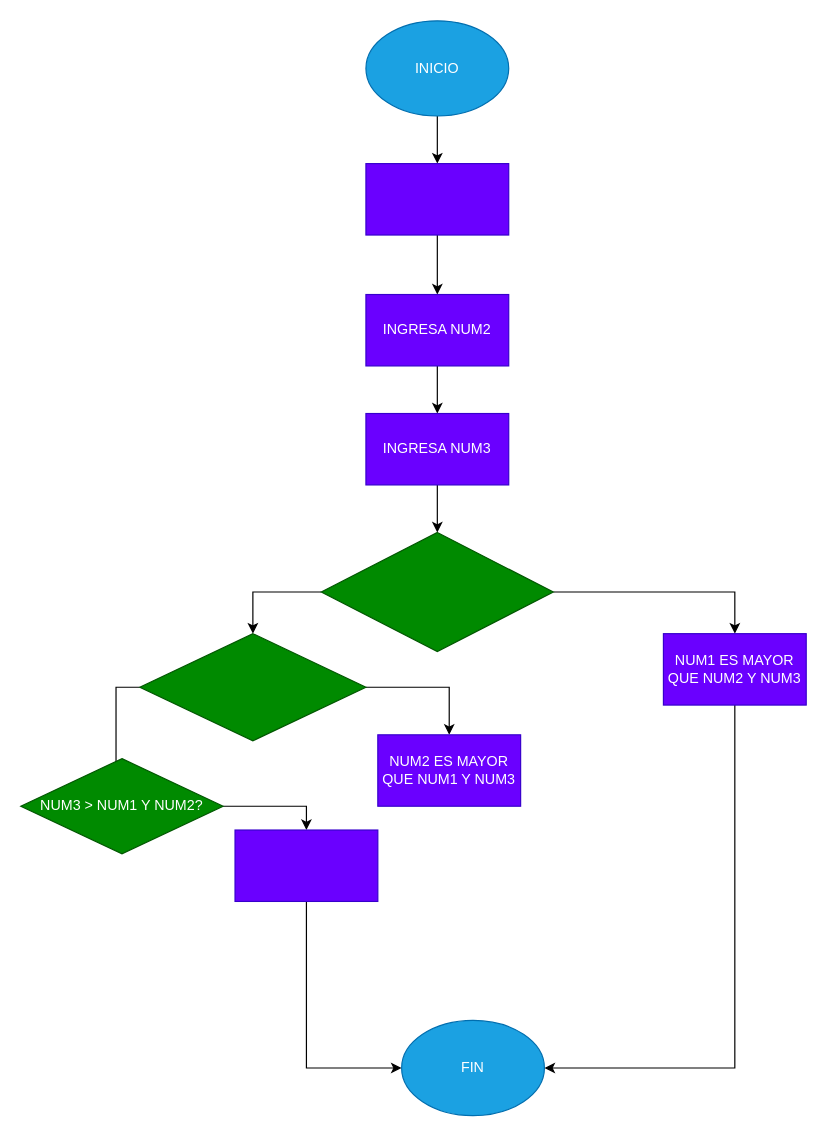
Some shapes in this 827 by 1136 pixel diagram are drawn without their labels. The shapes that lost their labels are listed below. From the top down, each one's centre as x and y in pixels, then its label:
At (x=437, y=198): "INGRESA NUM1".
At (x=436, y=591): "NUM1 > NUM2 Y NUM3?".
At (x=252, y=686): "NUM2 > NUM1 Y NUM3?".
At (x=306, y=865): "NUM3 ES MAYOR QUE NUM1 Y NUM2".
